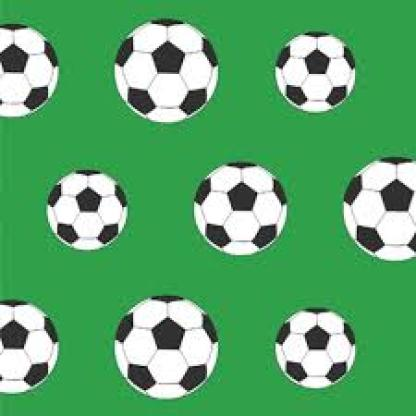ball: (114, 294, 219, 400), (115, 19, 219, 122), (194, 162, 287, 255), (342, 157, 416, 260), (274, 307, 356, 389), (276, 32, 356, 113), (48, 169, 127, 250), (0, 298, 59, 394), (0, 22, 57, 116)
